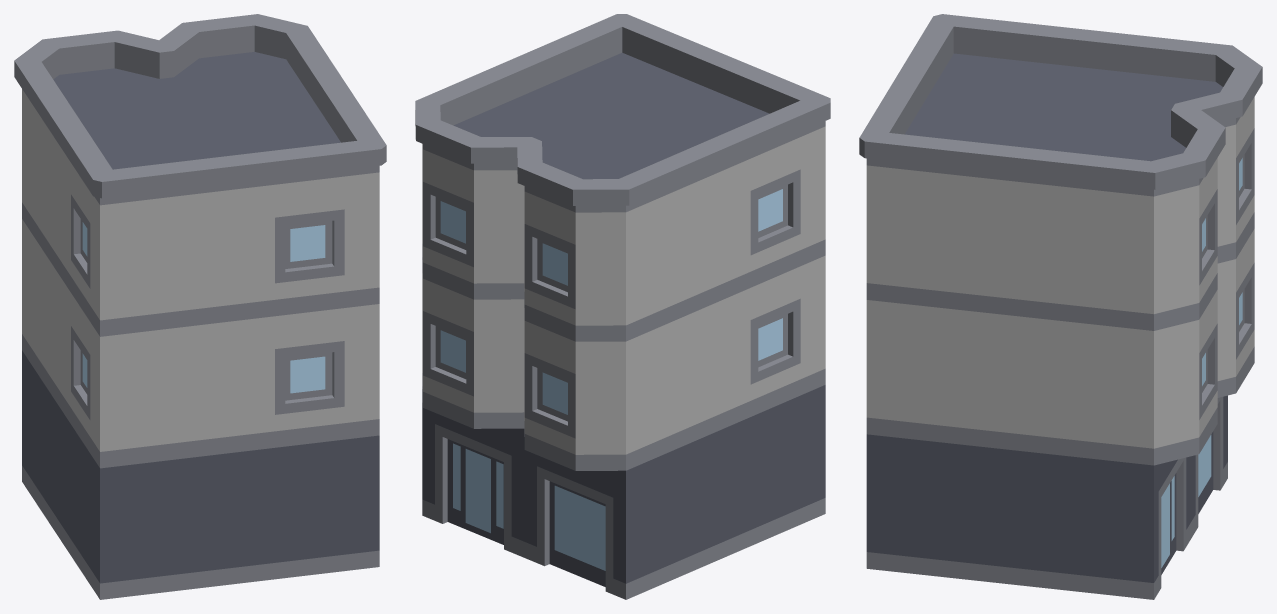
The model's file is variant_48.fbx.
The picture shows the model from 3 angles, left to right: view 1: azimuth 30°, elevation 25°; view 2: azimuth 150°, elevation 25°; view 3: azimuth 270°, elevation 25°; orthographic projection. The views are drawn at different scales.
Visible parts, largest first — view 1: small_buildingA; view 2: small_buildingA; view 3: small_buildingA.
Part boxes in pixels (bbox=[...]): small_buildingA: bbox=[14, 14, 386, 599]; small_buildingA: bbox=[415, 14, 830, 599]; small_buildingA: bbox=[859, 14, 1262, 599].
Bounding box in the file's own units: 101 × 128 × 109.
